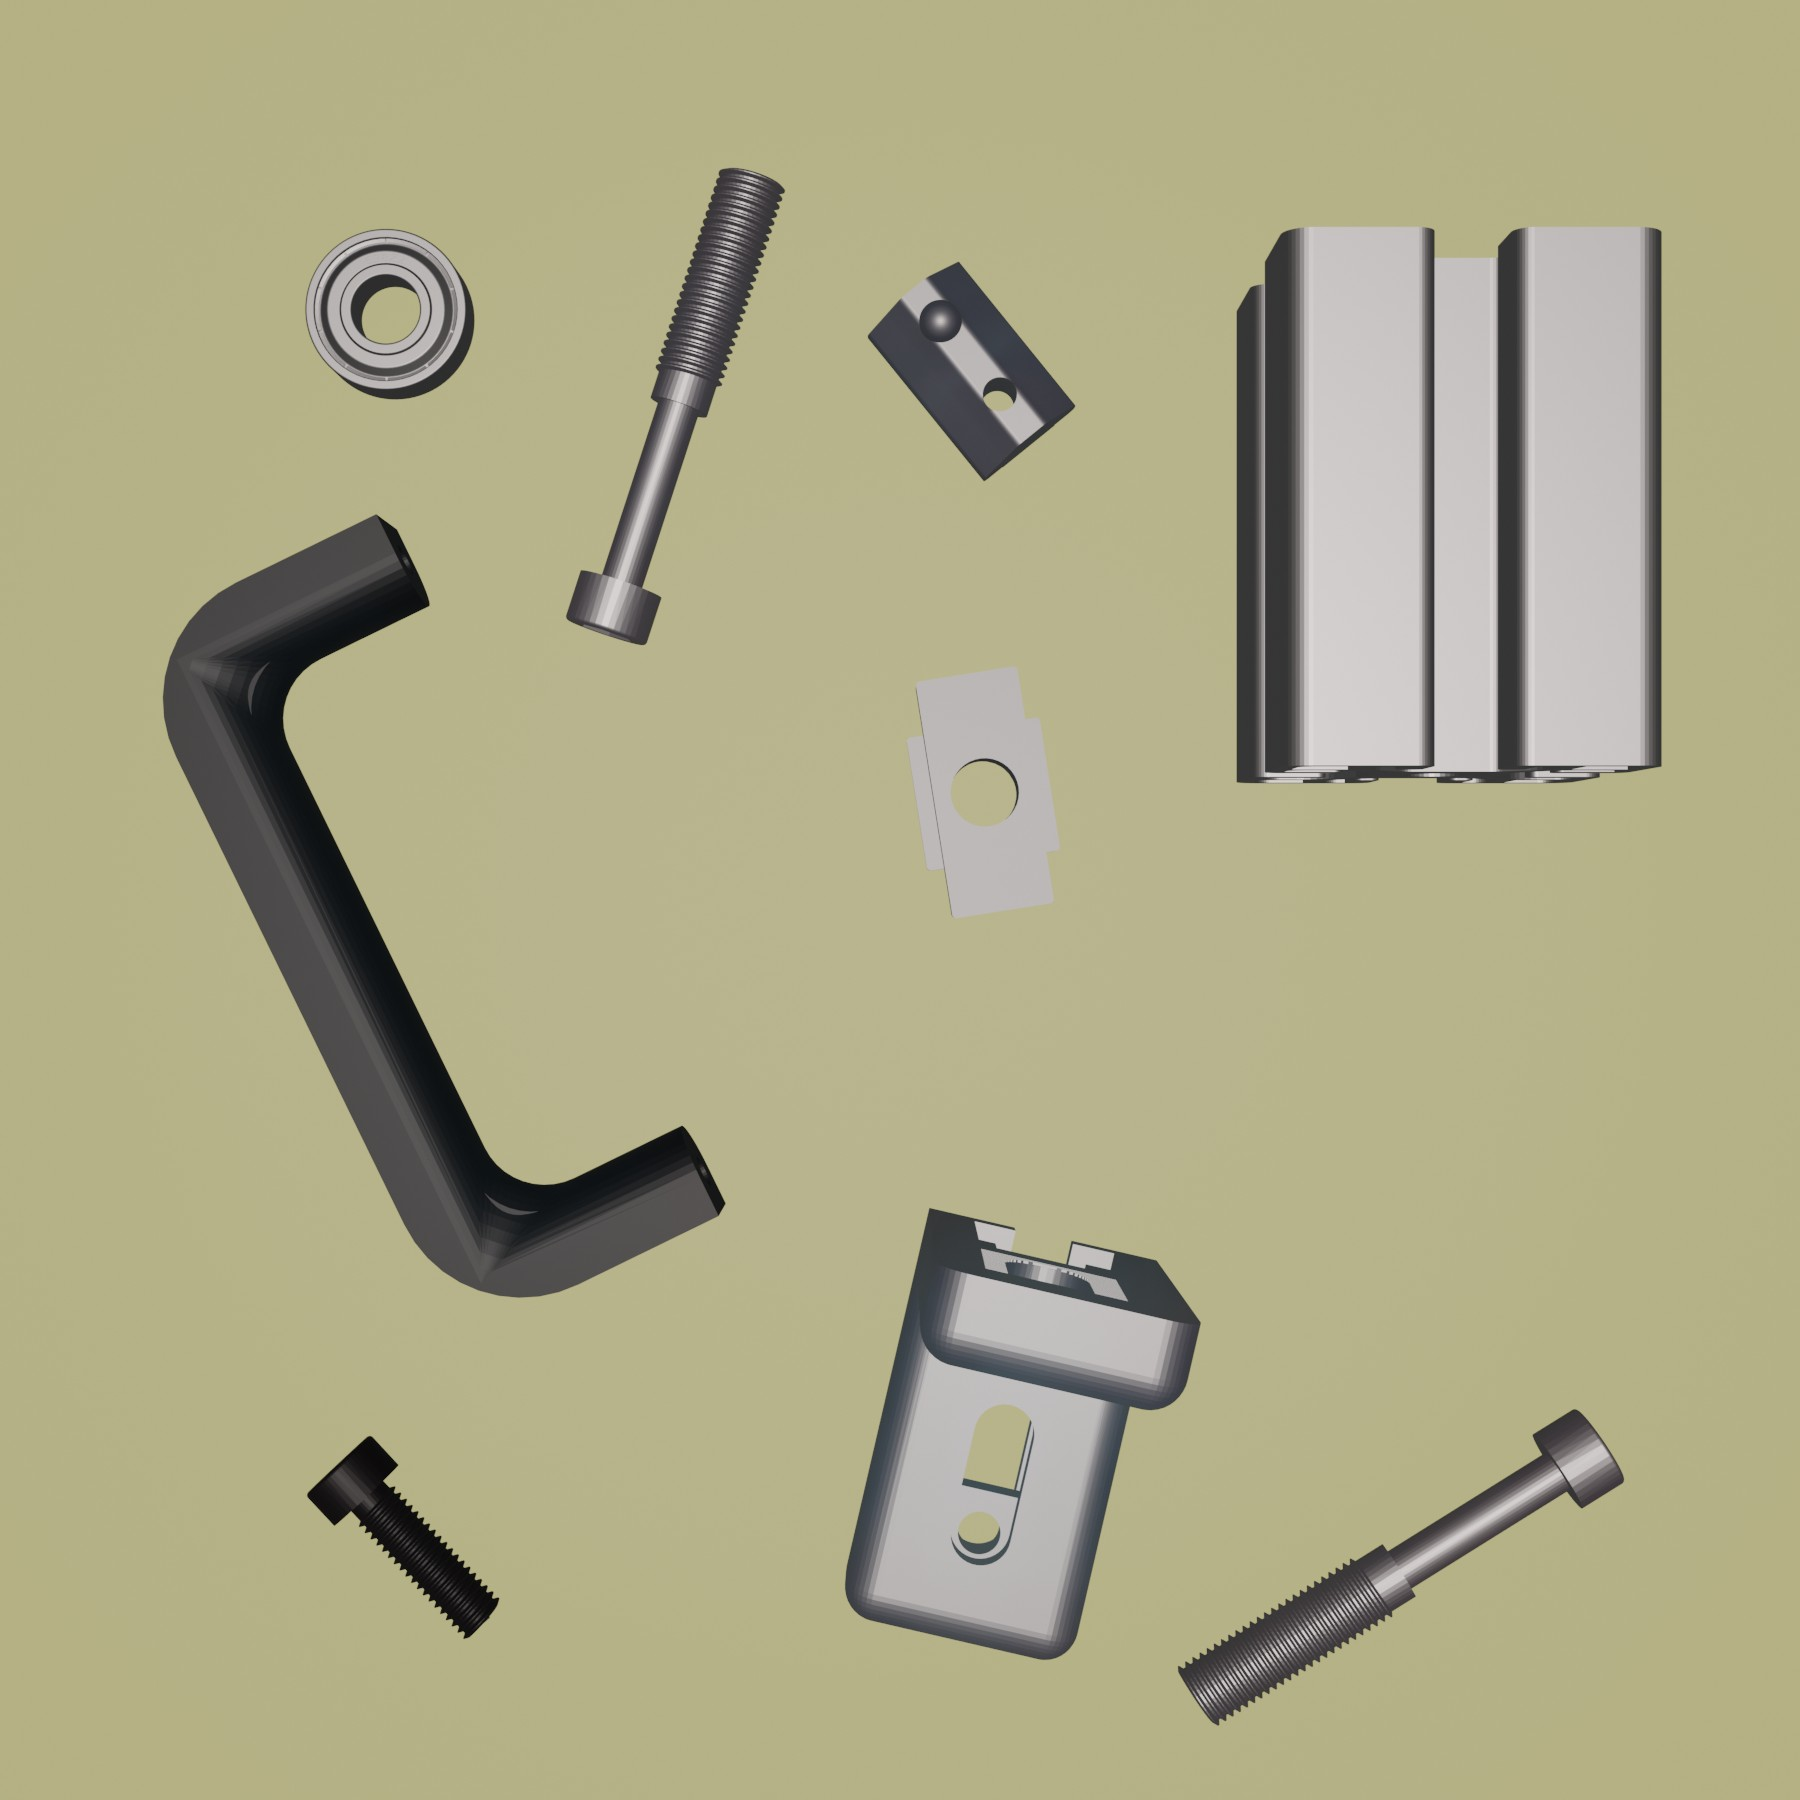Aluminium Extension: (1228, 219, 1665, 793)
Ball Bearing: (302, 226, 478, 401)
Multiwinkel: (841, 1203, 1202, 1662)
Pull Handle: (158, 511, 727, 1301)
Shoulder Socket Head Cap Screw: (1174, 1401, 1629, 1731), (564, 163, 790, 649)
Socket Head Cap Screw: (305, 1431, 499, 1645)
T Nut Square: (902, 664, 1066, 926)
T Spring Nut: (865, 259, 1078, 485)
